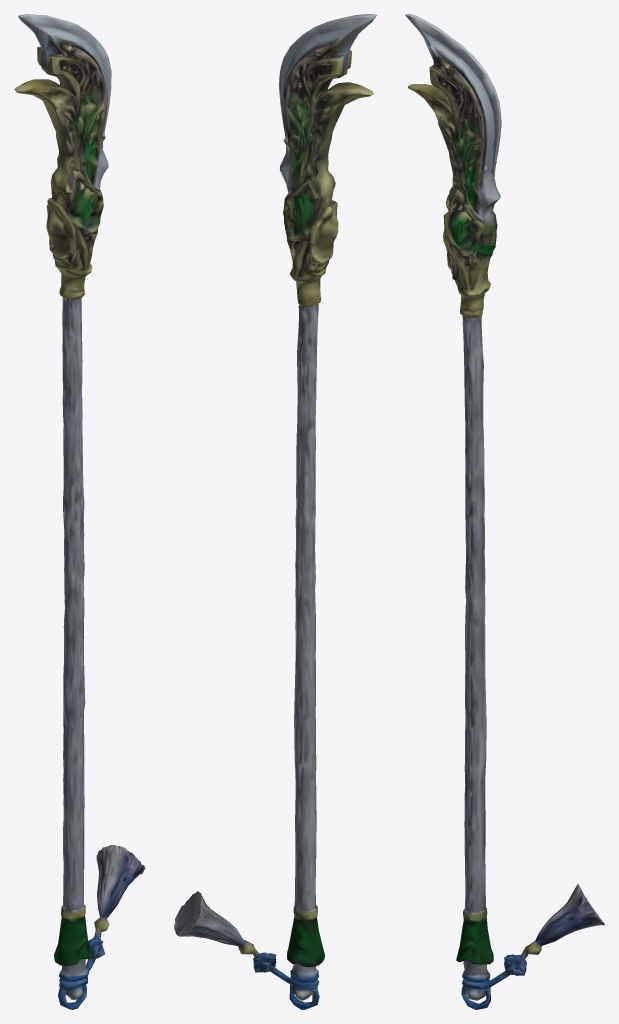
Rendered from glaive-qinglong.glb.
3 views of the same model, side by side, from view 1: azimuth 30°, elevation 25°; view 2: azimuth 150°, elevation 25°; view 3: azimuth 330°, elevation 25° (orthographic). The views are drawn at different scales.
Visible parts, largest first — view 1: glaive-qinglong; view 2: glaive-qinglong; view 3: glaive-qinglong.
Boxes of the visible parts, box(x1,y1,x2,y2) form: glaive-qinglong: box(14, 14, 145, 1009); glaive-qinglong: box(174, 14, 376, 1009); glaive-qinglong: box(405, 14, 604, 1009).
Size of the model in its own units: 0.4399 by 2.6 by 0.2857.
